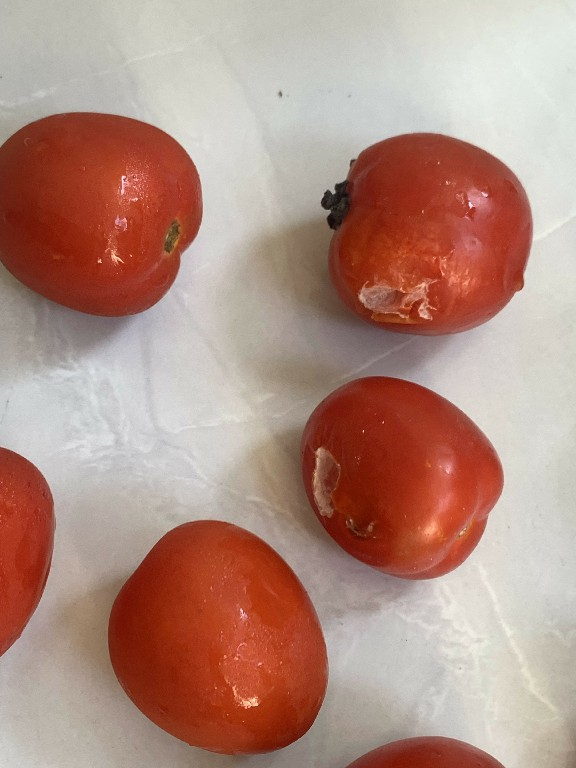NG: (301, 120, 541, 354), (285, 350, 511, 595)
OK: (83, 510, 349, 762), (0, 106, 220, 324)
